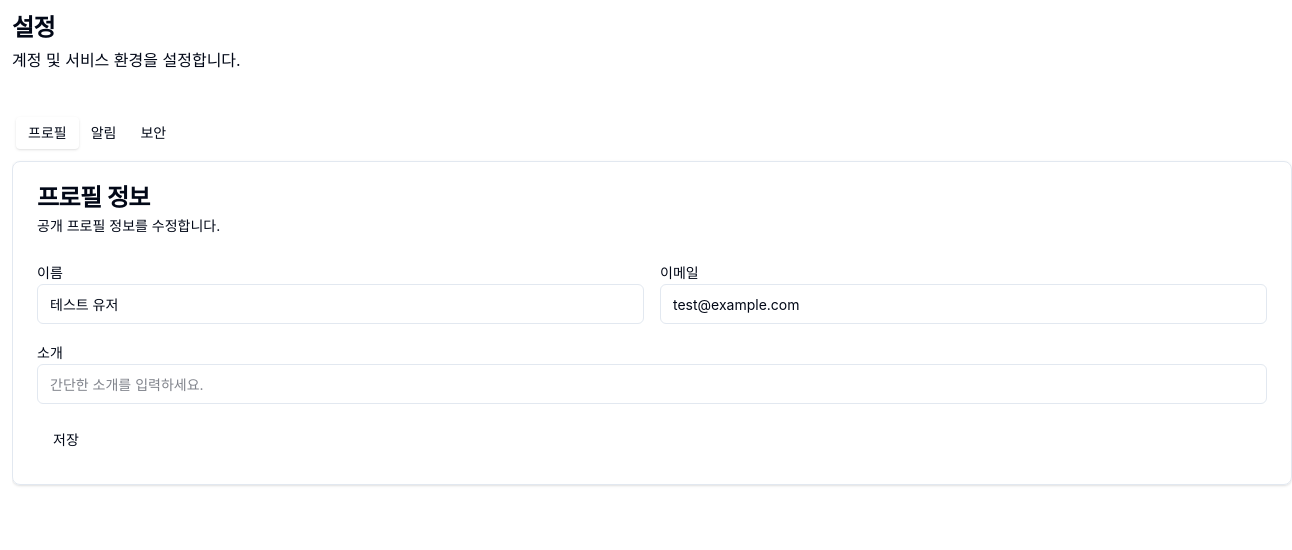
Scenario: SettingsPage › notifications tab › switches to notifications tab when clicked
Click the tab "알림" at (104, 133), box [79, 117, 128, 149]
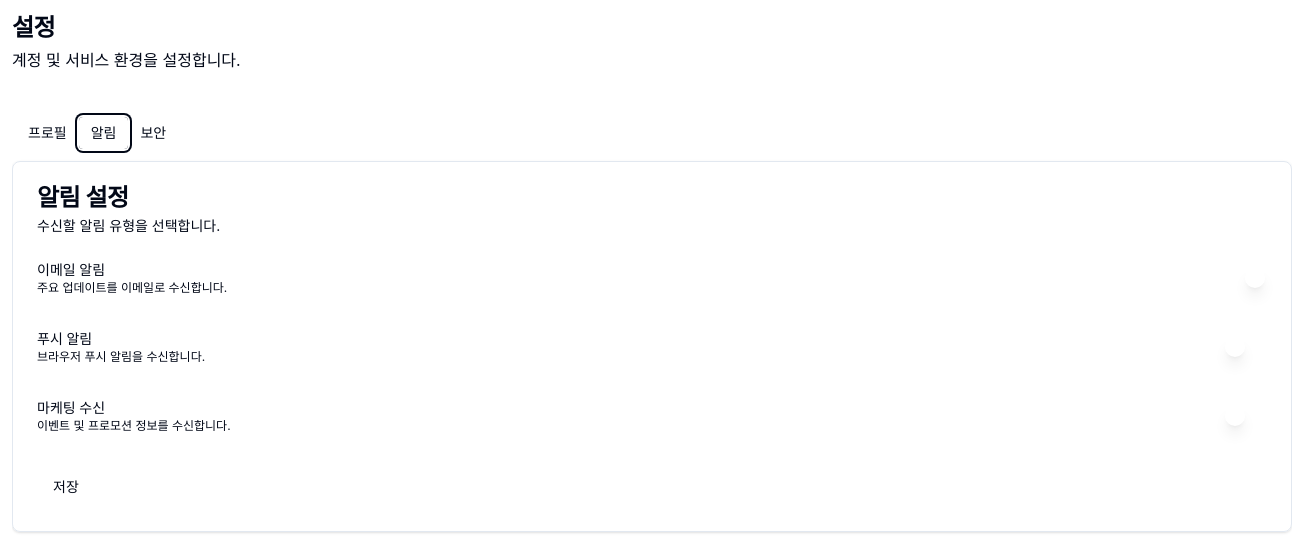
Result: the text "알림 설정" is shown at [37, 183, 128, 212]
Result: the text "이메일 알림" is shown at [37, 261, 105, 278]
Result: the text "푸시 알림" is shown at [37, 330, 92, 347]
